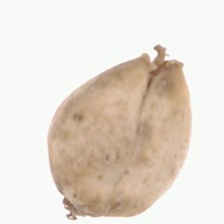L1: (55, 191, 119, 221), (139, 43, 184, 81)
L2: (47, 44, 193, 221)
